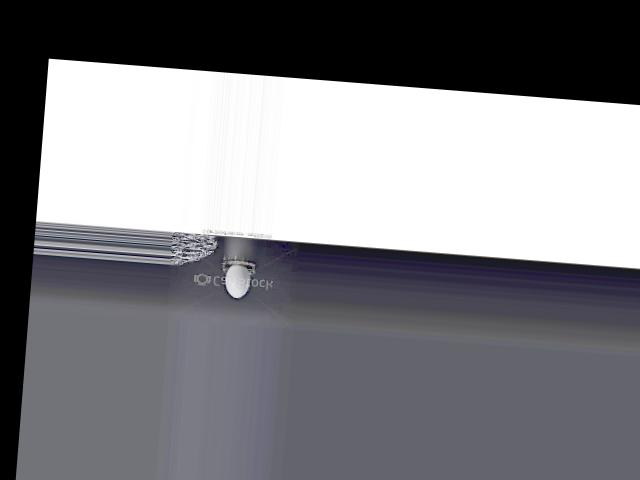egg: (224, 263, 251, 298)
